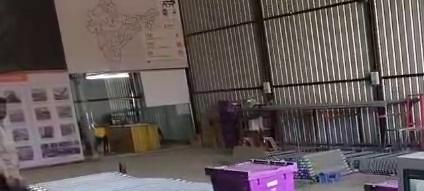box: (205, 162, 296, 190), (366, 180, 397, 190)
